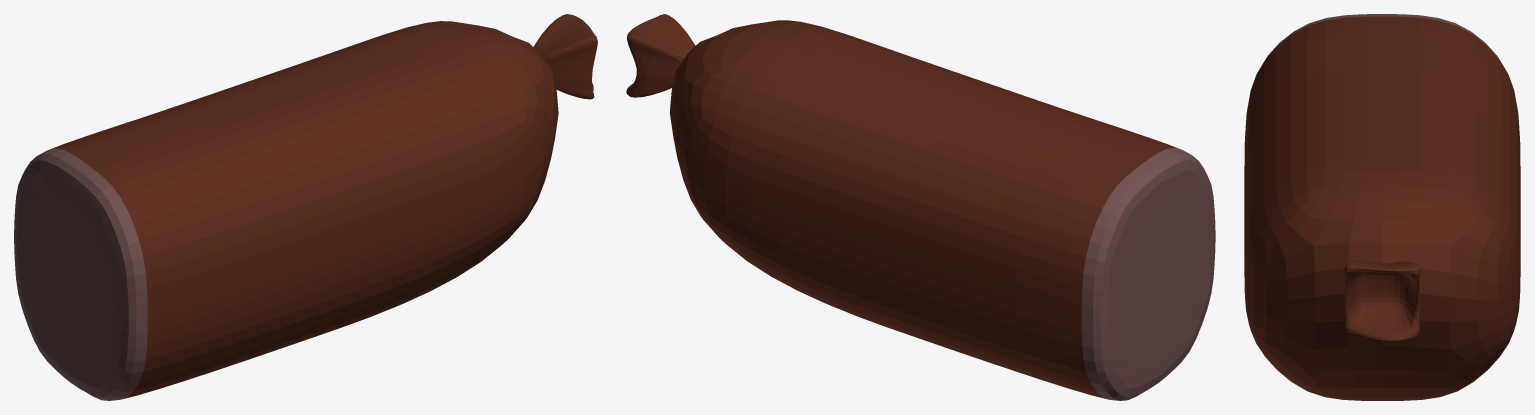
File: BolognaRight.fbx
The picture shows the model from 3 angles, left to right: view 1: azimuth 30°, elevation 25°; view 2: azimuth 150°, elevation 25°; view 3: azimuth 270°, elevation 25°; orthographic projection. The views are drawn at different scales.
Parts seen in each view (by area): view 1: КолбасаПрав; view 2: КолбасаПрав; view 3: КолбасаПрав.
Part boxes in pixels (x1,y1,x2,y2): КолбасаПрав: (14, 14, 597, 400); КолбасаПрав: (626, 14, 1215, 400); КолбасаПрав: (1244, 14, 1520, 400).
Bounding box in the file's own units: 491 × 228 × 200.
